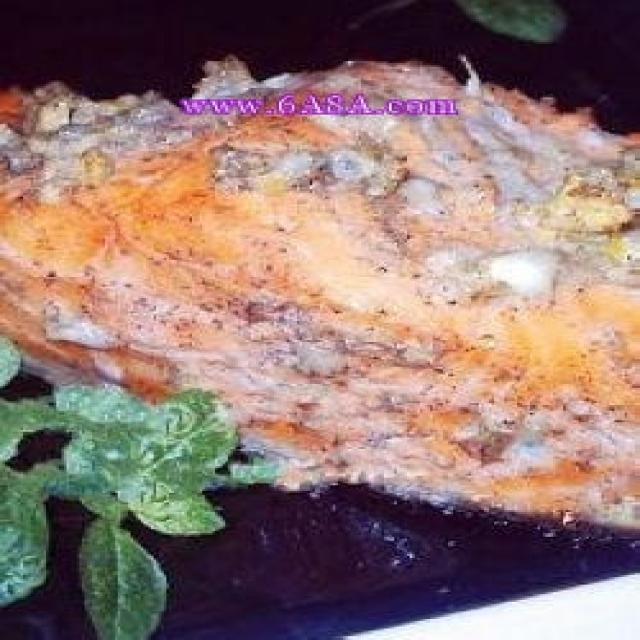熟制海鲜: (8, 8, 624, 594)
